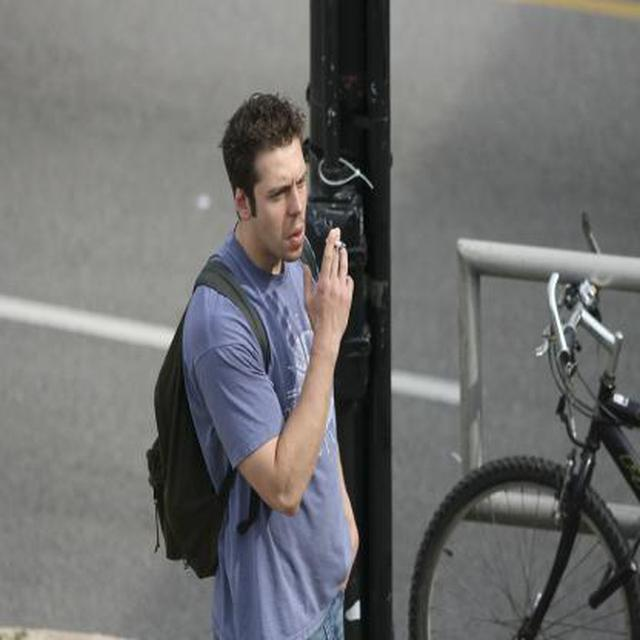smoking: (319, 231, 356, 260)
